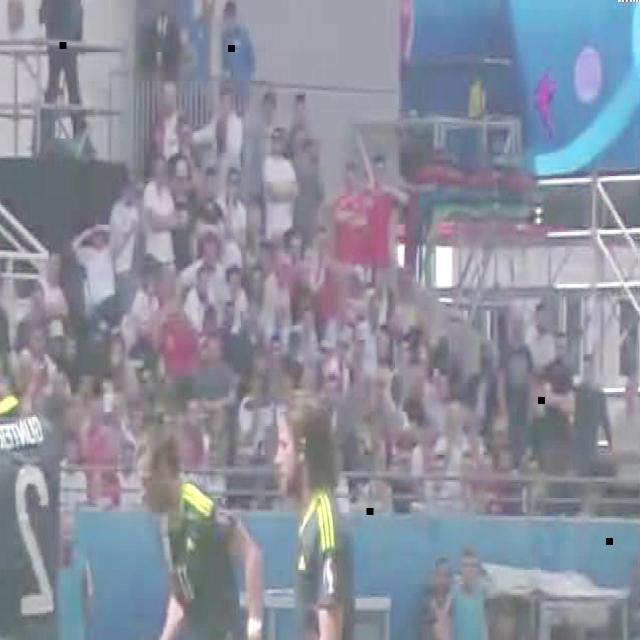player-white: (0, 303, 155, 640), (143, 426, 333, 640), (242, 377, 376, 640)
